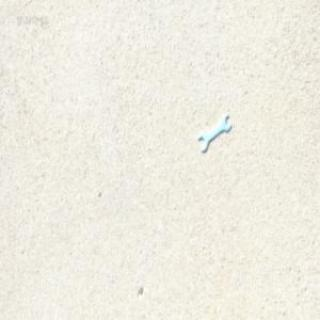Wrenchtrack_idkeyframe: (197, 112, 230, 150)
